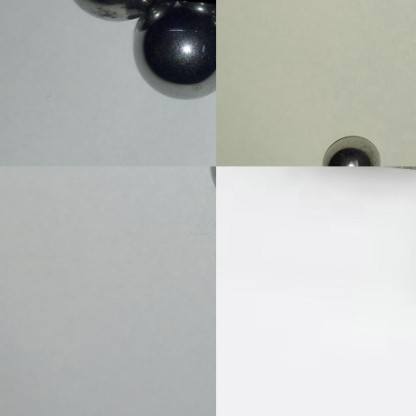ironball: (128, 6, 214, 95), (323, 132, 382, 167)
